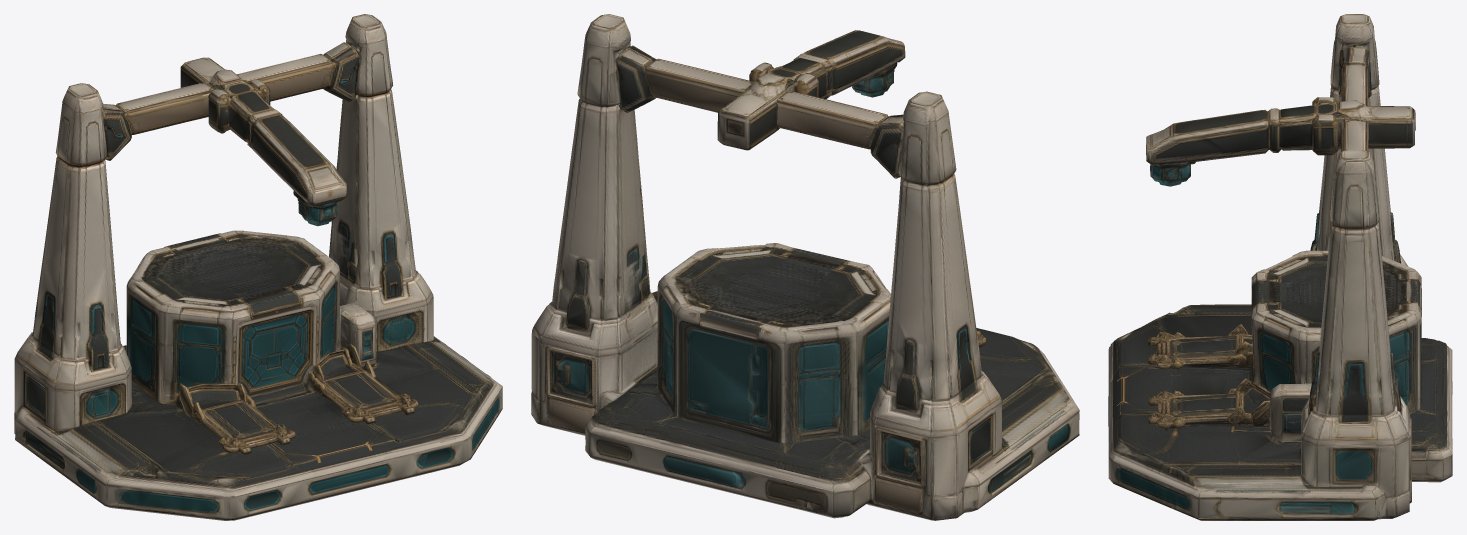
The model's file is solar-infirmary.glb.
3 views of the same model, side by side, from view 1: azimuth 30°, elevation 25°; view 2: azimuth 150°, elevation 25°; view 3: azimuth 270°, elevation 25° (orthographic). The views are drawn at different scales.
Parts seen in each view (by area): view 1: mesh_node; view 2: mesh_node; view 3: mesh_node.
Boxes of the visible parts, x1,y1,x2,y2 form: mesh_node: (14,14,502,520); mesh_node: (531,14,1079,520); mesh_node: (1108,14,1452,520).
Bounding box in the file's own units: 2 × 1.68 × 1.53.
Materials: 1 (1 with a texture image).
